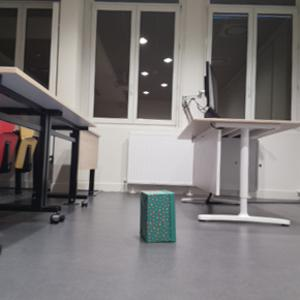small: (140, 188, 177, 245)
